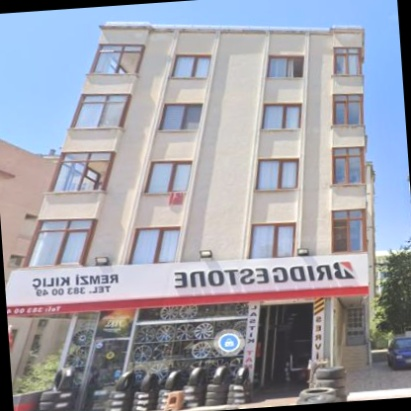door: (339, 306, 367, 347)
